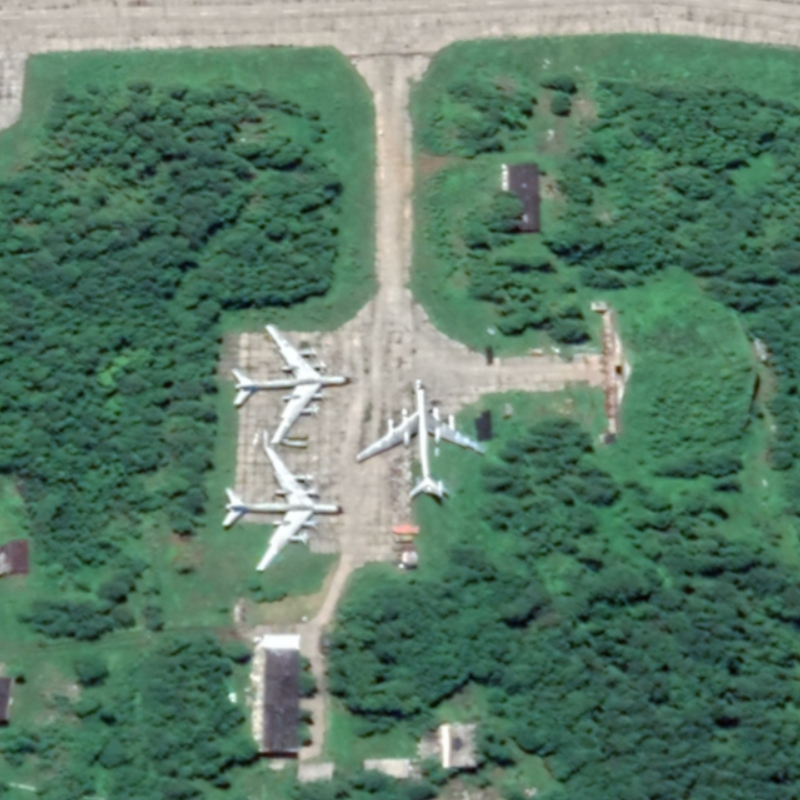A17: (351, 377, 489, 506), (220, 443, 345, 577), (227, 319, 354, 446)
